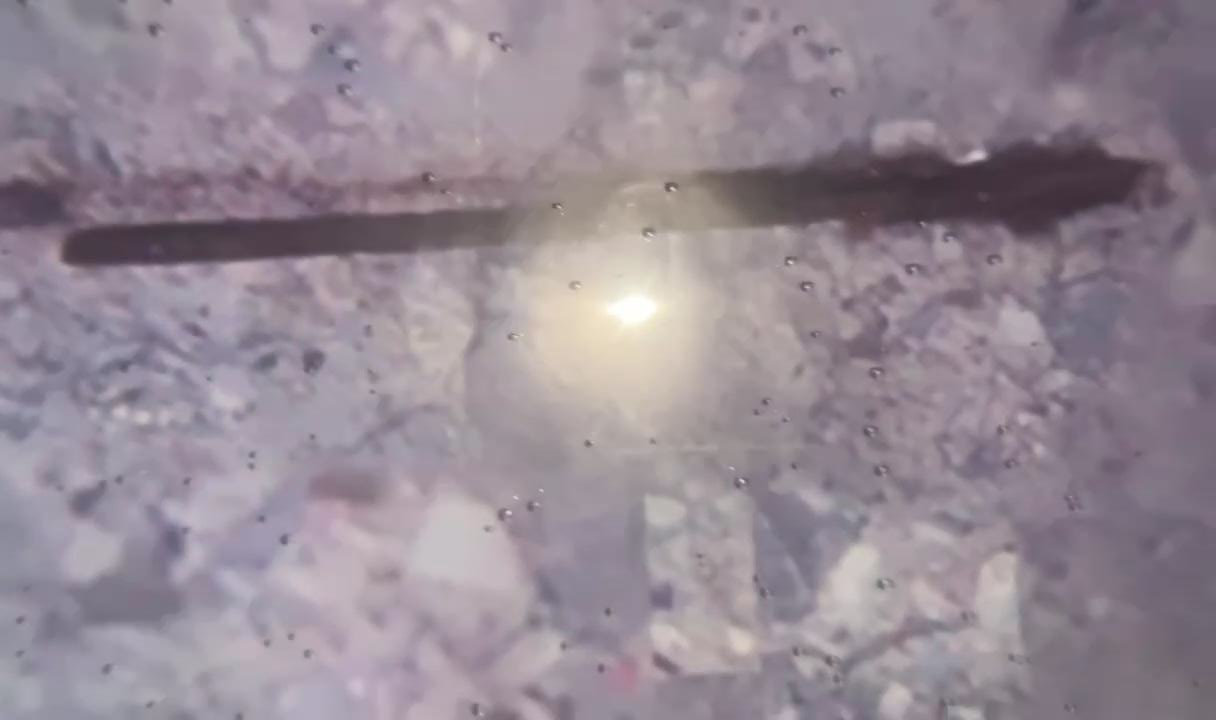Exposed reinforcement: (59, 146, 1165, 268)
